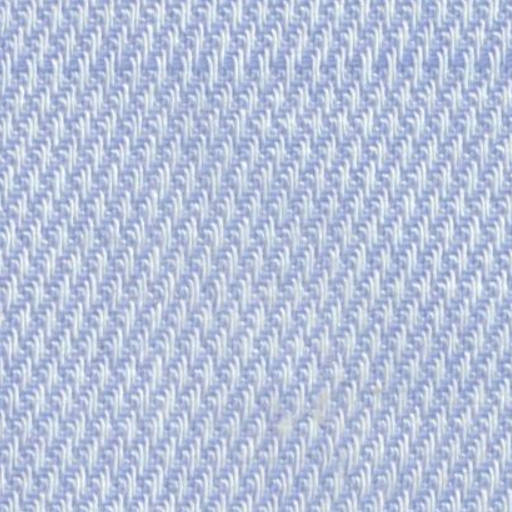TuoSha: (12, 26, 488, 102)
